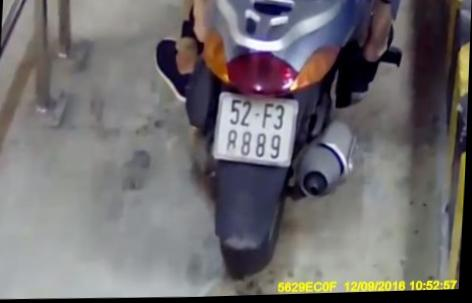LP: (212, 89, 301, 172)
